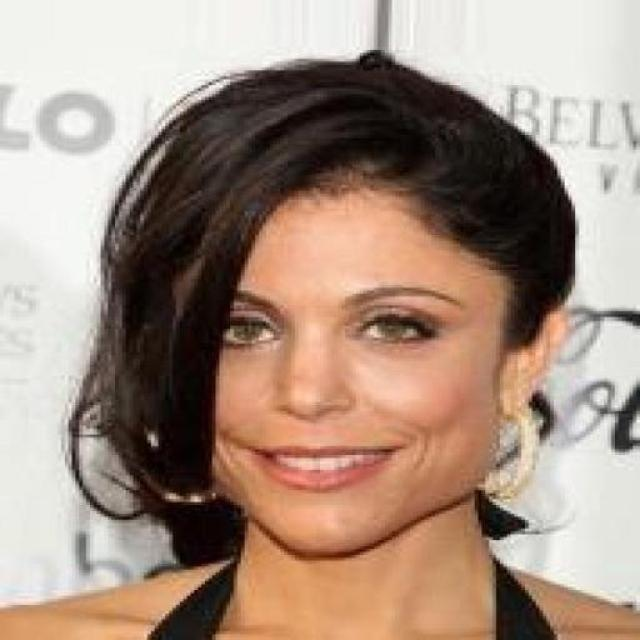bareface: (168, 95, 552, 570)
